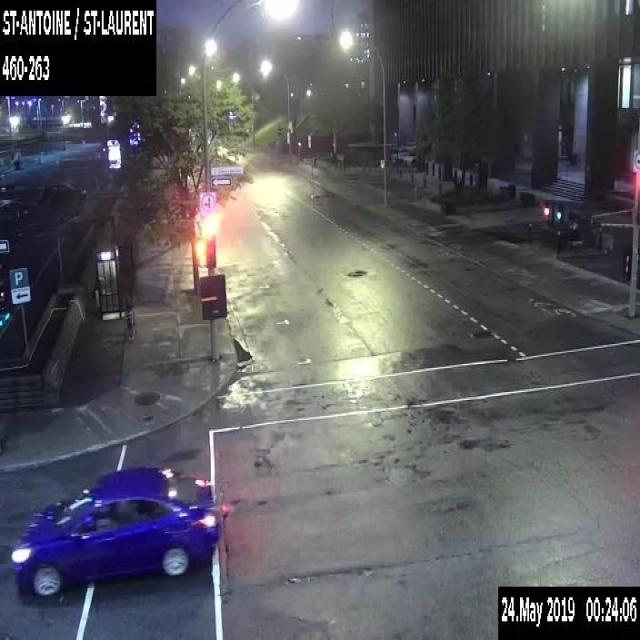construction: (276, 125, 283, 135)
vehicle: (10, 461, 222, 599), (40, 180, 87, 210)
